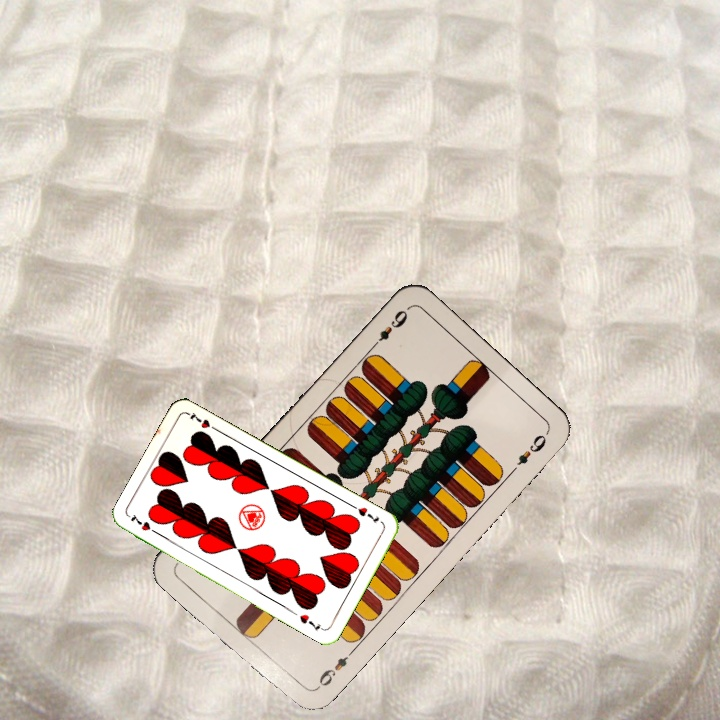E9: (311, 646, 357, 693), (367, 304, 411, 352)
H7: (126, 511, 162, 538), (348, 501, 382, 527)
